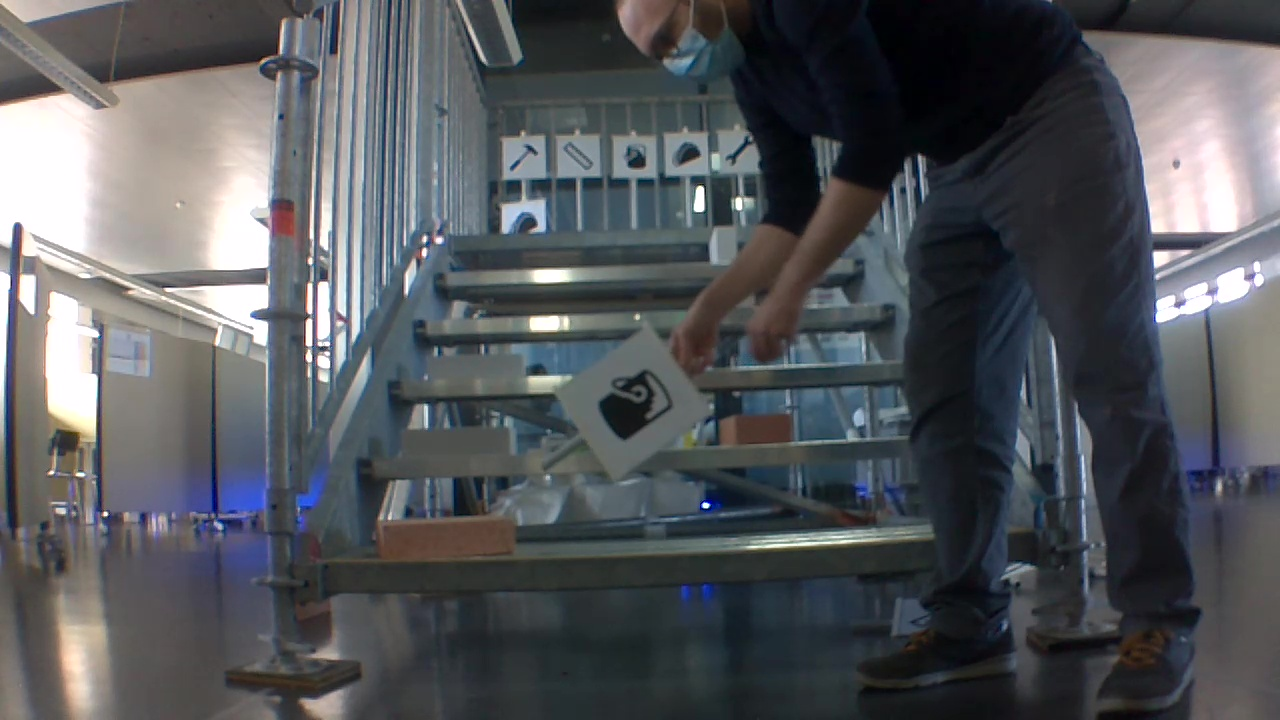brick: (377, 516, 512, 559), (403, 425, 516, 457), (718, 415, 793, 446), (427, 356, 527, 379), (708, 226, 737, 262)
bucket: (592, 366, 677, 447), (619, 140, 650, 171)
edge: (324, 529, 1037, 590)
hammer: (506, 141, 542, 173)
ruler: (561, 139, 595, 174)
taco: (668, 136, 702, 168), (503, 209, 541, 236)
